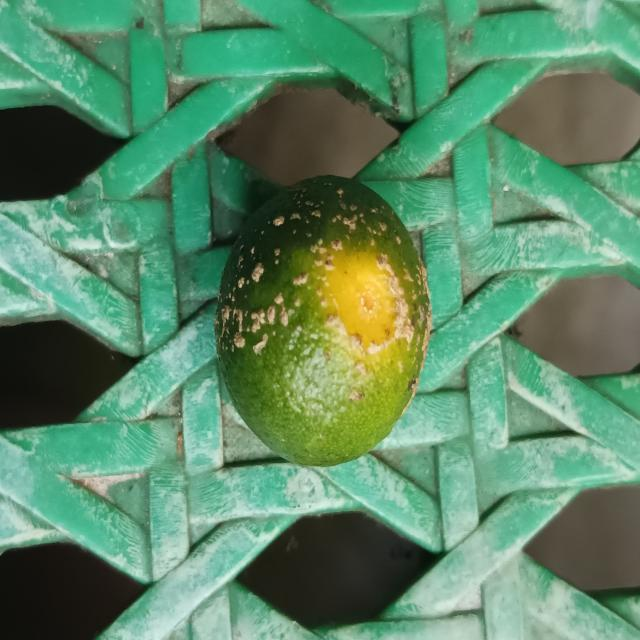scab: (209, 173, 431, 472)
